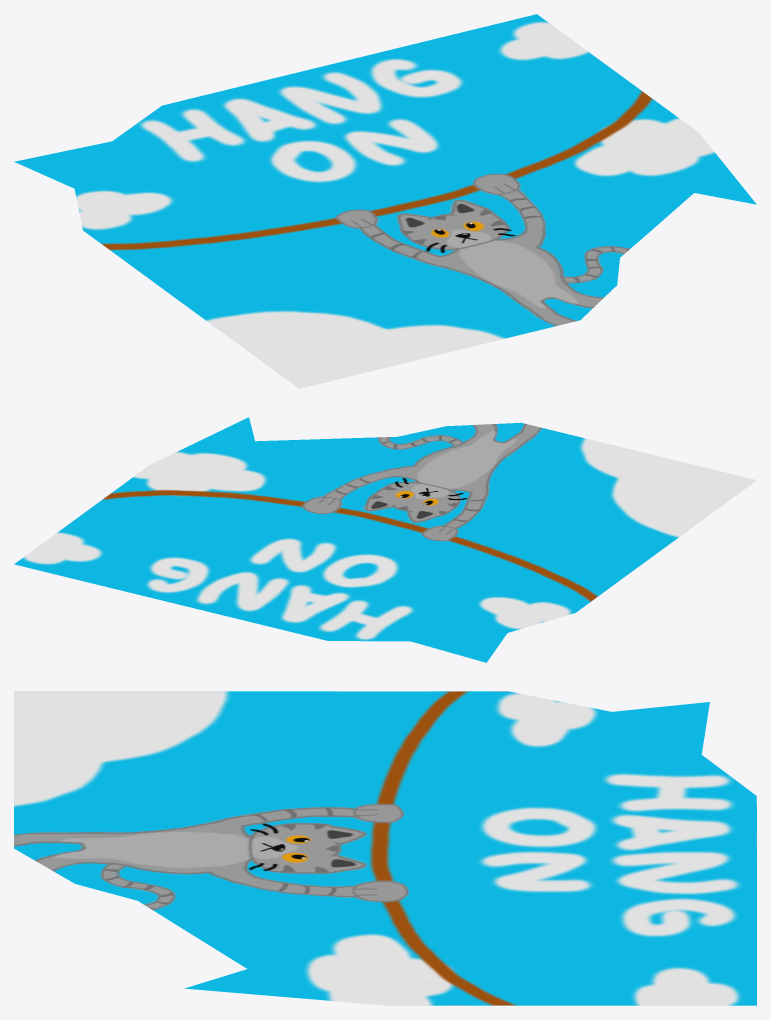
File: Poster_2.fbx
The picture shows the model from 3 angles, top to bottom: view 1: azimuth 30°, elevation 25°; view 2: azimuth 150°, elevation 25°; view 3: azimuth 270°, elevation 25°; orthographic projection. The views are drawn at different scales.
Parts seen in each view (by area): view 1: Plane; view 2: Plane; view 3: Plane.
Boxes of the visible parts, box(x1,y1,x2,y2) form: Plane: box(14, 14, 756, 388); Plane: box(14, 417, 756, 662); Plane: box(14, 691, 756, 1005).
Size of the model in its own units: 200 by 3.26e-05 by 200.
Materials: 1 (1 with a texture image).
